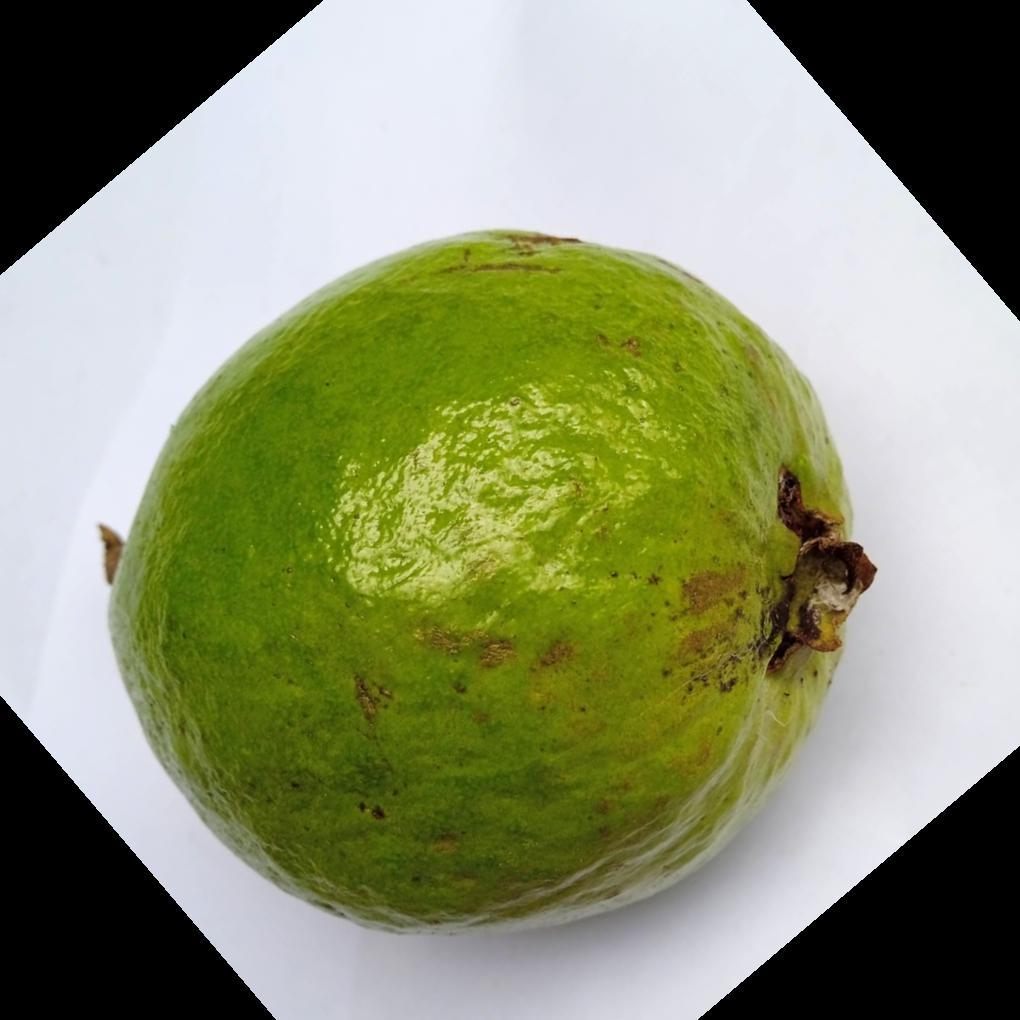FreshGuava: (104, 229, 876, 937)
